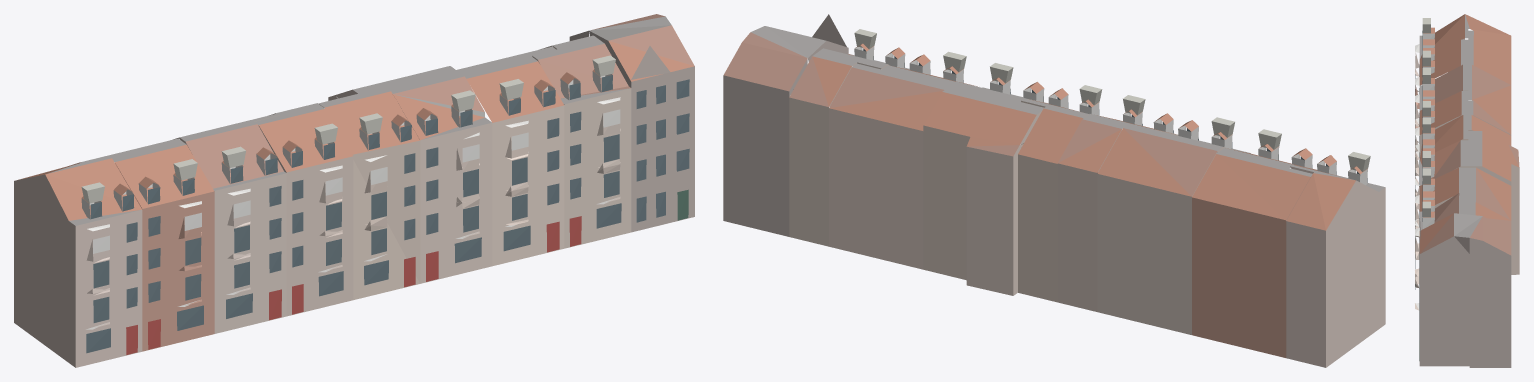
Rendered from chunk-face-hasebroek-43-101-r1.lod2.glb.
3 views of the same model, side by side, from view 1: azimuth 30°, elevation 25°; view 2: azimuth 150°, elevation 25°; view 3: azimuth 270°, elevation 25° (orthographic). The views are drawn at different scales.
Visible parts, largest first — view 1: lod2; view 2: lod2; view 3: lod2.
Part boxes in pixels (bbox=[...]): lod2: bbox=[14, 14, 694, 367]; lod2: bbox=[723, 14, 1385, 367]; lod2: bbox=[1414, 14, 1519, 367].
Size of the model in its own units: 58.46 by 16.26 by 11.46.
